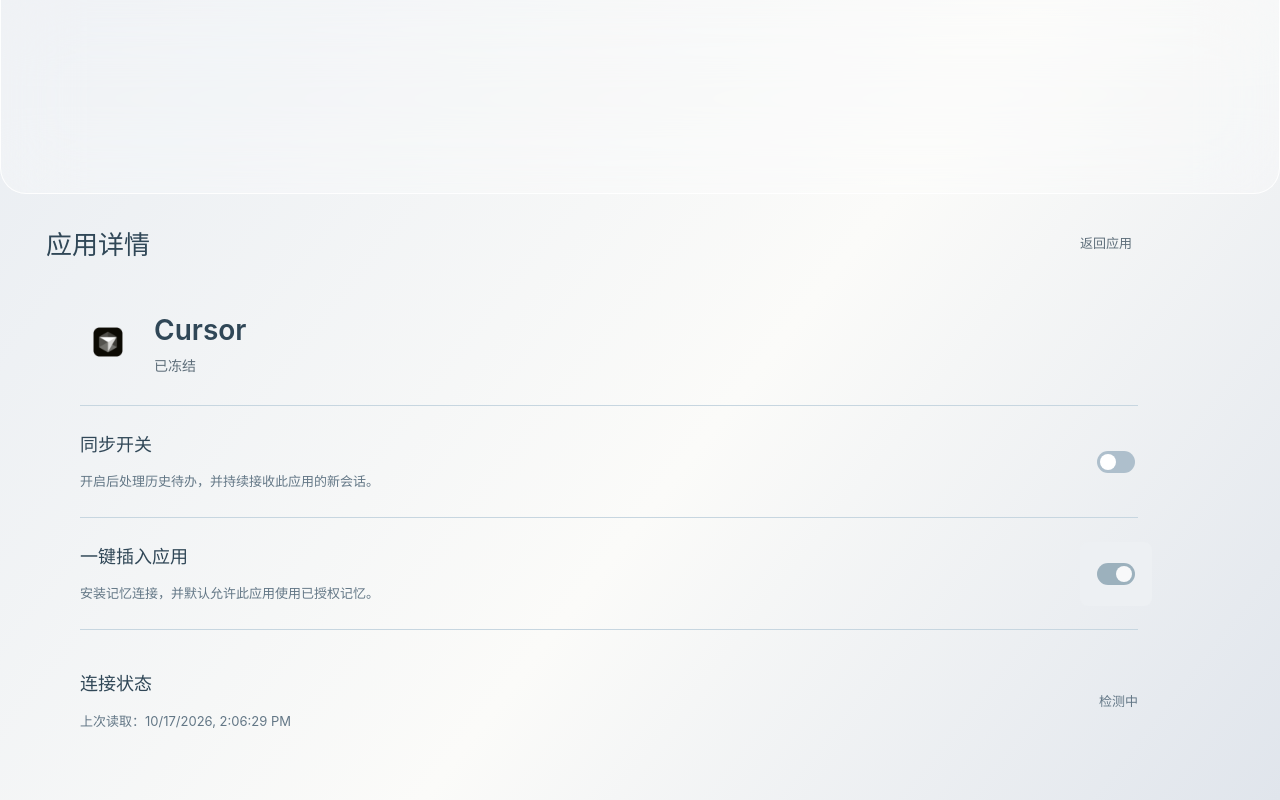
Test: one host state shared by the home and detail pages › shows a host read made on the detail page on the home page without its own read
(page scrolled)
Click the button "检测中" at [1118, 701], box [1099, 683, 1138, 719]
(page scrolled)
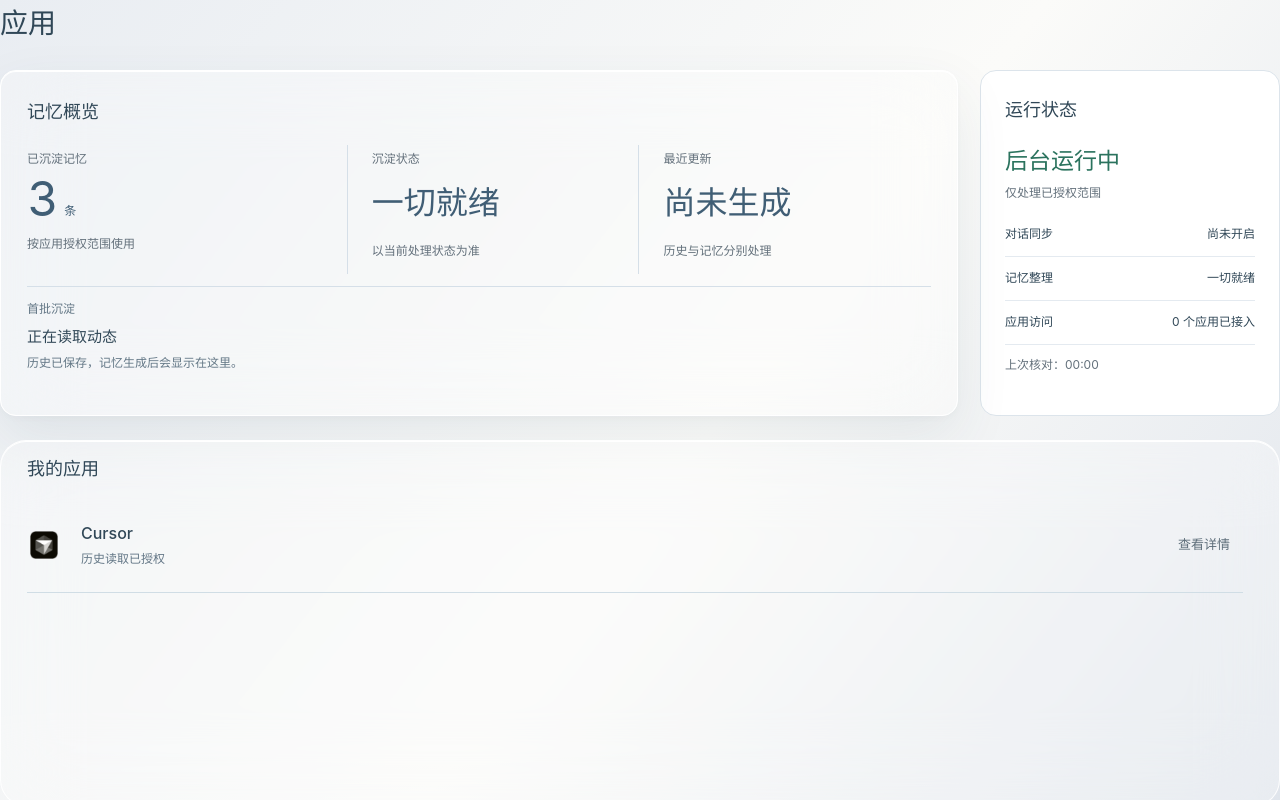
Expected: the text "应用访问" shows "0 个应用已接入", [1172, 314, 1255, 329]
